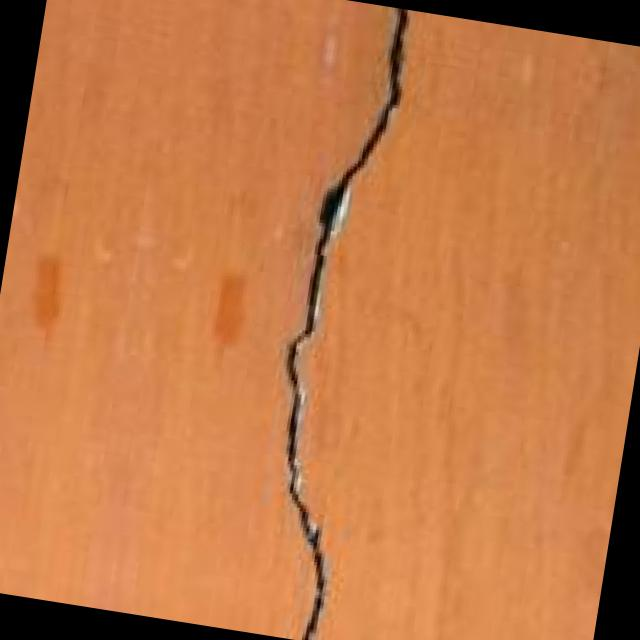crack: (181, 0, 493, 640)
